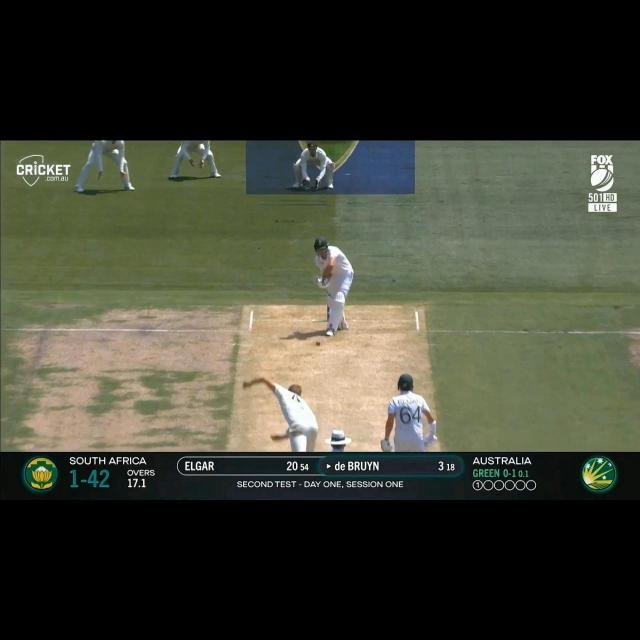bat: (311, 275, 320, 284)
